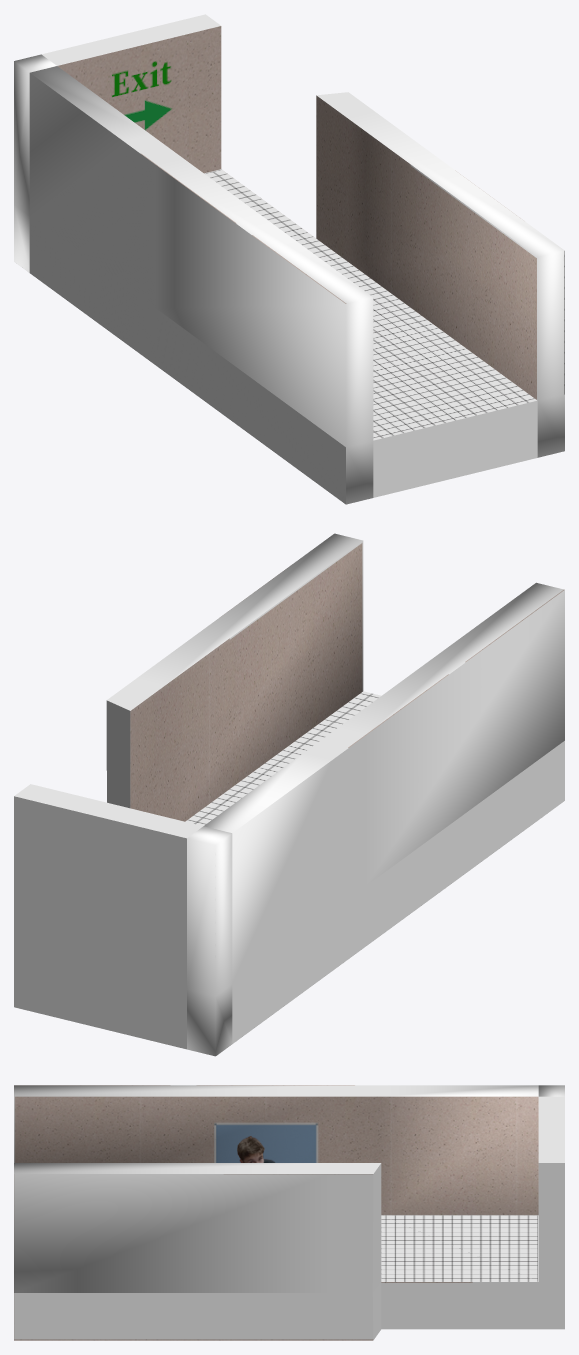
Rendered from cornerRightWall.obj.
3 views of the same model, one above another, from view 1: azimuth 30°, elevation 25°; view 2: azimuth 150°, elevation 25°; view 3: azimuth 270°, elevation 25° (orthographic). The views are drawn at different scales.
Parts seen in each view (by area): view 1: Cube.010; view 2: Cube.010; view 3: Cube.010.
Part boxes in pixels (<box>): Cube.010: <box>14,14,564,504</box>; Cube.010: <box>14,533,564,1056</box>; Cube.010: <box>14,1085,564,1340</box>.
Bounding box in the file's own units: 8 × 7 × 21.
